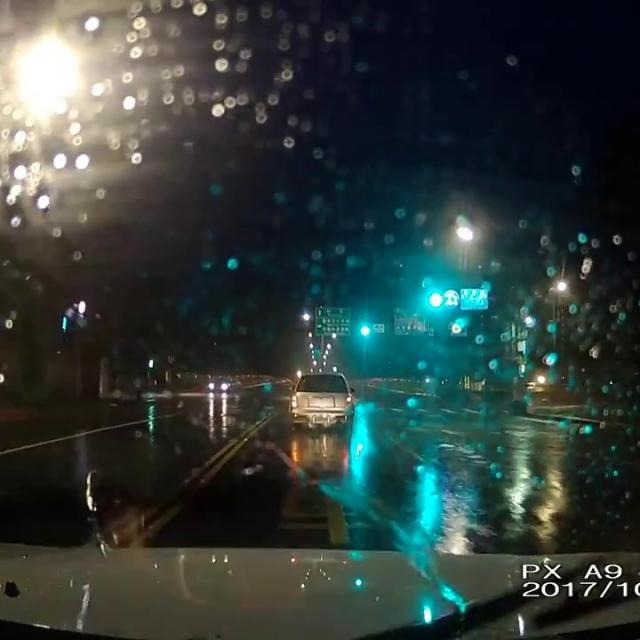Car: (287, 370, 353, 433), (207, 374, 240, 391)
